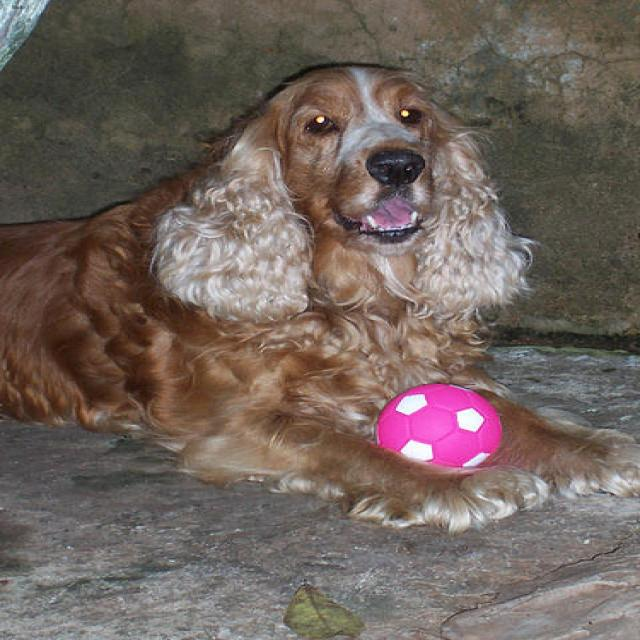dog-english_cocker_spaniel: (2, 51, 637, 540)
